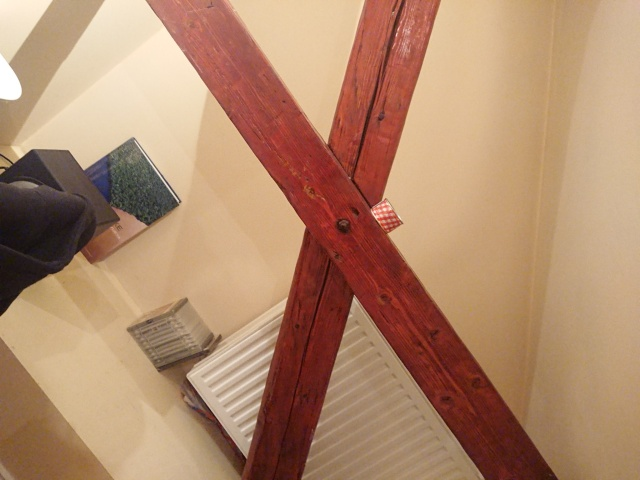Podravka Luncheon Meat 150g: (367, 196, 406, 236)
